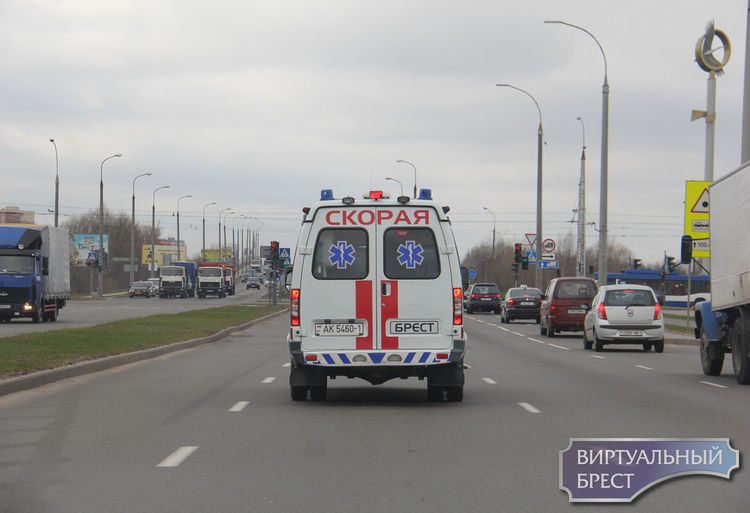passenger: (582, 284, 667, 351), (537, 277, 596, 333), (499, 286, 542, 322), (469, 282, 498, 317)
special: (284, 189, 468, 404)
